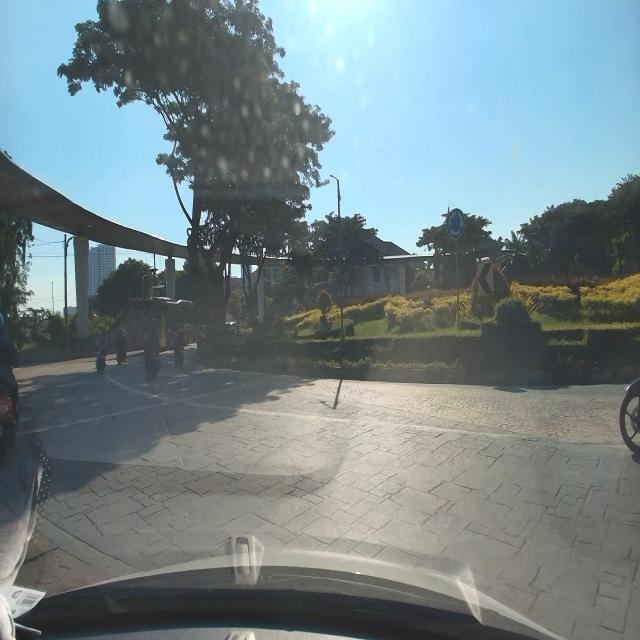bus: (125, 292, 197, 356)
